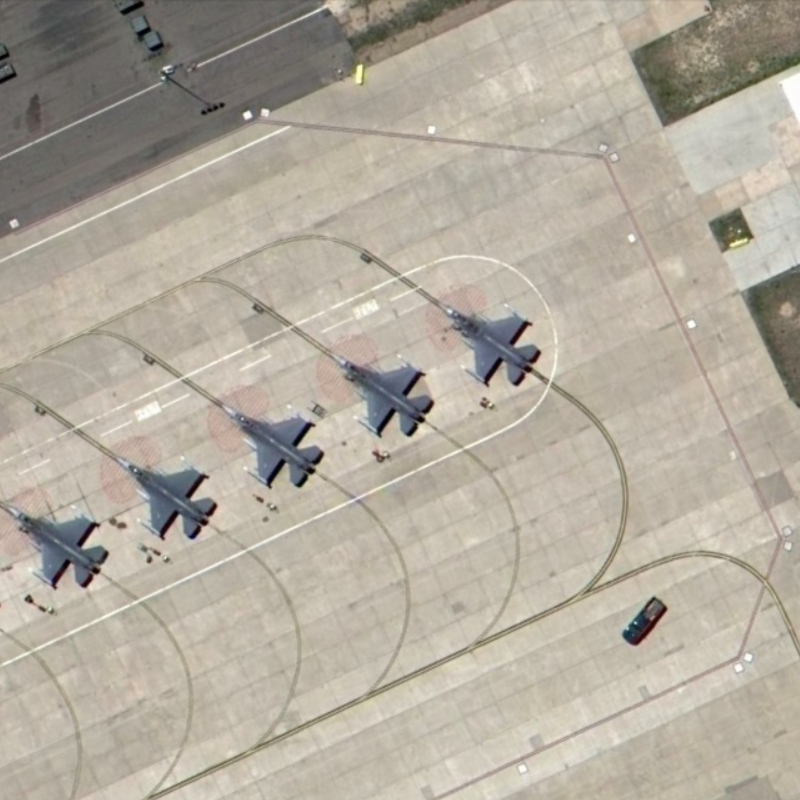A5: (311, 337, 439, 444), (215, 386, 333, 496), (422, 287, 545, 392), (106, 439, 219, 546), (3, 502, 113, 598)
